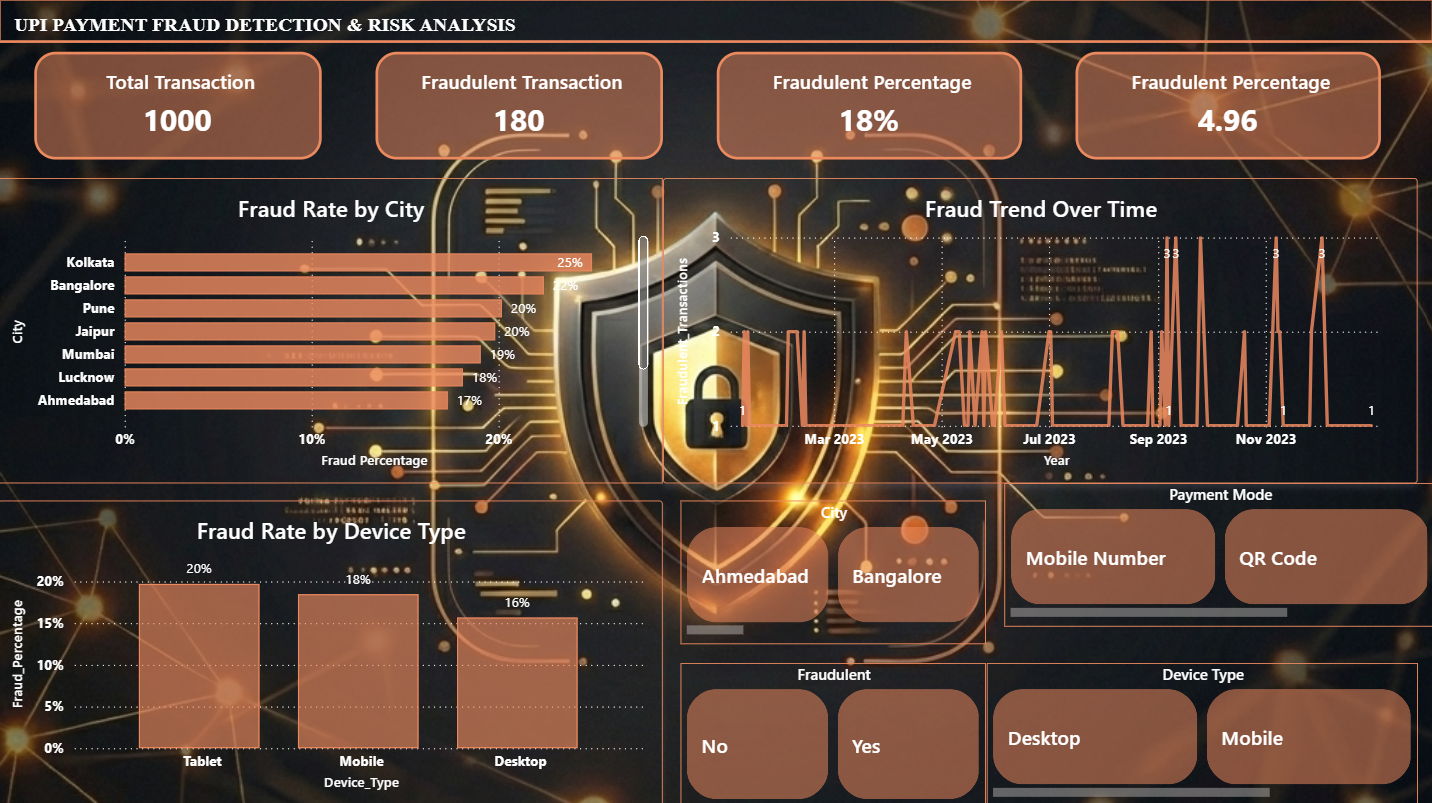

The dashboard page shown, as its layout file describes it:
{"tool":"powerbi","page":{"name":"Executive Overview","canvas":[1280,720],"ordinal":0},"visuals":[{"type":"card","title":"Total Transaction","fields":{"Values":["transactions.Total_Transactions"]},"box":[32,48,256,96],"z":0},{"type":"card","title":"Fraudulent Transaction","fields":{"Values":["risk_fraudulent.Fraudulent_Transactions"]},"box":[336,48,256,96],"z":1000},{"type":"card","title":"Fraudulent Percentage","fields":{"Values":["risk_fraudulent.Fraud_Percentage","select","select1"]},"box":[640,48,272,96],"z":2000},{"type":"clusteredBarChart","title":"Fraud Rate by City","fields":{"Category":["transactions.City"],"Y":["risk_fraudulent.Fraud_Percentage"]},"box":[0,160,592,272],"z":3000},{"type":"clusteredColumnChart","title":"Fraud Rate by Device Type","fields":{"Category":["transactions.Device_Type"],"Y":["risk_fraudulent.Fraud_Percentage"]},"box":[0,448,592,272],"z":4000},{"type":"lineChart","title":"Fraud Trend Over Time","fields":{"Y":["risk_fraudulent.Fraudulent_Transactions"],"Category":["transactions.Transaction_Timestamp.Variation.Date Hierarchy.Year","transactions.Transaction_Timestamp.Variation.Date Hierarchy.Quarter","transactions.Transaction_Timestamp.Variation.Date Hierarchy.Month","transactions.Transaction_Timestamp.Variation.Date Hierarchy.Day"]},"box":[592,160,672,272],"z":5000},{"type":"advancedSlicerVisual","fields":{"Values":["transactions.City"]},"box":[608,448,272,128],"z":6000},{"type":"advancedSlicerVisual","title":"Device Type","fields":{"Values":["transactions.Device_Type"]},"box":[880,592,384,128],"z":7000},{"type":"advancedSlicerVisual","title":"Payment Mode","fields":{"Values":["transactions.Payment_Mode"]},"box":[896,432,384,128],"z":8000},{"type":"advancedSlicerVisual","title":"Fraudulent","fields":{"Values":["risk_fraudulent.Fradulent_Display"]},"box":[608,592,272,128],"z":9000},{"type":"textbox","title":"UPI PAYMENT FRAUD DETECTION & RISK ANALYSIS","box":[0,0,1280,40],"z":10000},{"type":"card","title":"Fraudulent Percentage","fields":{"Values":["select","select1","risk_fraudulent.Average_Fraud_Score"]},"box":[960,48,272,96],"z":11000}]}

Visuals, with their boxes in screenshot pixels (x1, y1, x2, y2), scaled from the page's 1280x720 canvas onto the 1432x803 screenshot:
"Total Transaction" card: bbox=(36, 54, 322, 161)
"Fraudulent Transaction" card: bbox=(376, 54, 662, 161)
"Fraudulent Percentage" card: bbox=(716, 54, 1020, 161)
"Fraud Rate by City" clusteredBarChart: bbox=(0, 178, 662, 482)
"Fraud Rate by Device Type" clusteredColumnChart: bbox=(0, 500, 662, 802)
"Fraud Trend Over Time" lineChart: bbox=(662, 178, 1414, 482)
advancedSlicerVisual - transactions.City: bbox=(680, 500, 984, 642)
"Device Type" advancedSlicerVisual: bbox=(984, 660, 1414, 802)
"Payment Mode" advancedSlicerVisual: bbox=(1002, 482, 1431, 625)
"Fraudulent" advancedSlicerVisual: bbox=(680, 660, 984, 802)
"UPI PAYMENT FRAUD DETECTION & RISK ANALYSIS" textbox: bbox=(0, 0, 1431, 45)
"Fraudulent Percentage" card: bbox=(1074, 54, 1378, 161)
